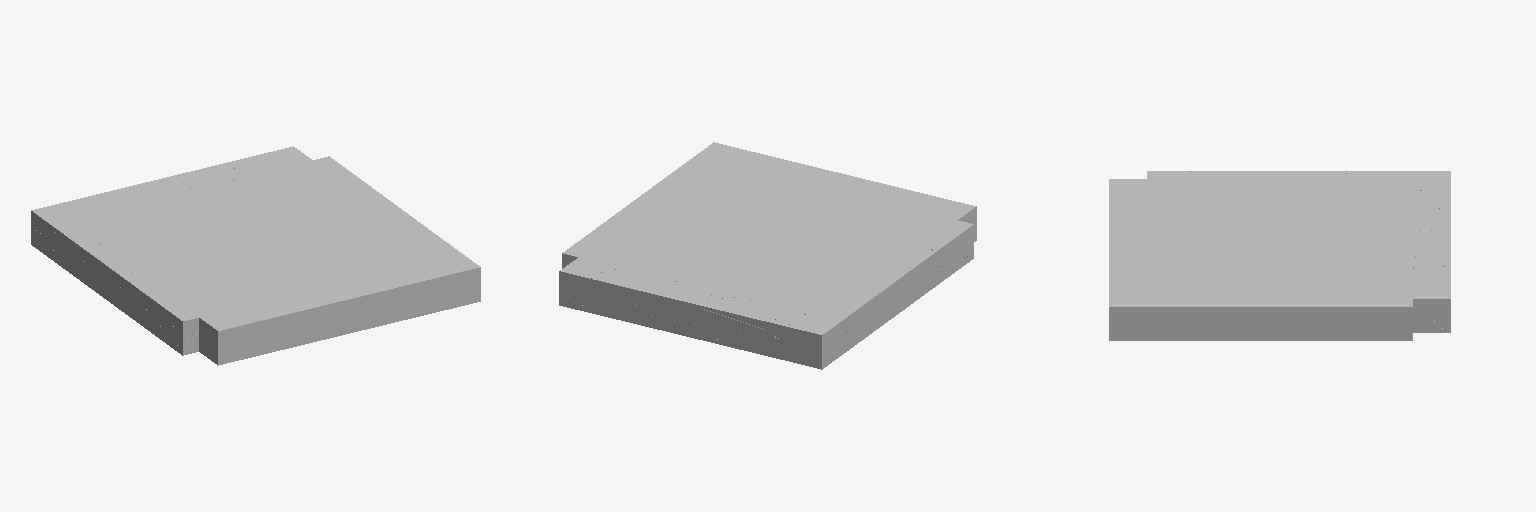
The model's file is VoronoiCube.obj.
3 renders of one model, left to right at view 1: azimuth 30°, elevation 25°; view 2: azimuth 150°, elevation 25°; view 3: azimuth 270°, elevation 25°, orthographic.
Parts seen in each view (by area): view 1: Cube_Cube.002, Cube_cell.002_cell.001_Cube_cell.002_cell.000, Cube_cell.005_cell.002_Cube_cell.005_cell.001, Cube_cell.002_cell.007_cell.002_Cube_cell.002_cell.007_cell.001, Cube_cell.004_cell.001_cell.005_Cube_cell.004_cell.001_cell.004, Cube_cell_Cube_cell.007, Cube_cell.006_cell.001_Cube_cell.006_cell.000, Cube_cell.005_cell_cell.007_cell.006_Cube_cell.005_cell_cell.007, Cube_cell.002_cell.002_cell_Cube_cell.002_cell.002_cell.008, Cube_cell.006_cell.004_cell.004_Cube_cell.006_cell.004_cell.003, Cube_cell.002_cell.007_cell.001_Cube_cell.002_cell.007_cell.000, Cube_cell.006_cell.004_cell.003_Cube_cell.006_cell.004_cell.002 (+16 smaller); view 2: Cube_Cube.002, Cube_cell.006_cell.003_cell.001_Cube_cell.006_cell.003_cell.000, Cube_cell.002_cell.001_Cube_cell.002_cell.000, Cube_cell.006_cell.004_cell.004_Cube_cell.006_cell.004_cell.003, Cube_cell.005_cell.002_Cube_cell.005_cell.001, Cube_cell.002_cell.007_cell.002_Cube_cell.002_cell.007_cell.001, Cube_cell.003_cell.002_Cube_cell.003_cell.001, Cube_cell.002_cell.007_cell.001_Cube_cell.002_cell.007_cell.000, Cube_cell.004_cell.002_cell.003_cell.006_Cube_cell.004_cell.002_, Cube_cell.006_cell.001_Cube_cell.006_cell.000, Cube_cell.002_cell_cell.006_Cube_cell.002_cell_cell.004, Cube_cell.006_cell.004_cell.007_Cube_cell.006_cell.004_cell.006 (+7 smaller); view 3: Cube_Cube.002, Cube_cell.006_cell.001_Cube_cell.006_cell.000, Cube_cell.006_cell.004_cell.004_Cube_cell.006_cell.004_cell.003, Cube_cell.004_cell.002_cell.003_cell.006_Cube_cell.004_cell.002_, Cube_cell.004_cell.003_cell.001_Cube_cell.004_cell.003_cell.000, Cube_cell.004_cell.001_cell.005_Cube_cell.004_cell.001_cell.004, Cube_cell.002_cell.002_cell.003_Cube_cell.002_cell.002_cell.002, Cube_cell.002_cell.001_Cube_cell.002_cell.000.
Part boxes in pixels (x1,y1,x2,y2): Cube_Cube.002: (67,156,480,365); Cube_cell.002_cell.001_Cube_cell.002_cell.000: (82,246,171,308); Cube_cell.005_cell.002_Cube_cell.005_cell.001: (119,261,199,328); Cube_cell.002_cell.007_cell.002_Cube_cell.002_cell.007_cell.001: (55,225,100,276); Cube_cell.004_cell.001_cell.005_Cube_cell.004_cell.001_cell.004: (287,188,357,220); Cube_cell_Cube_cell.007: (161,305,243,340); Cube_cell.006_cell.001_Cube_cell.006_cell.000: (268,146,318,178); Cube_cell.005_cell_cell.007_cell.006_Cube_cell.005_cell_cell.007: (210,280,268,305); Cube_cell.002_cell.002_cell_Cube_cell.002_cell.002_cell.008: (103,220,162,247); Cube_cell.006_cell.004_cell.004_Cube_cell.006_cell.004_cell.003: (177,163,236,188); Cube_cell.002_cell.007_cell.001_Cube_cell.002_cell.007_cell.000: (31,204,68,240); Cube_cell.006_cell.004_cell.003_Cube_cell.006_cell.004_cell.002: (195,177,264,197); Cube_Cube.002: (562,142,976,316); Cube_cell.006_cell.003_cell.001_Cube_cell.006_cell.003_cell.000: (580,266,635,322); Cube_cell.002_cell.001_Cube_cell.002_cell.000: (851,266,912,331); Cube_cell.006_cell.004_cell.004_Cube_cell.006_cell.004_cell.003: (629,280,696,317); Cube_cell.005_cell.002_Cube_cell.005_cell.001: (854,241,938,304); Cube_cell.002_cell.007_cell.002_Cube_cell.002_cell.007_cell.001: (831,291,874,348); Cube_cell.003_cell.002_Cube_cell.003_cell.001: (771,337,834,369); Cube_cell.002_cell.007_cell.001_Cube_cell.002_cell.007_cell.000: (796,314,846,345); Cube_cell.004_cell.002_cell.003_cell.006_Cube_cell.004_cell.002_: (745,180,821,203); Cube_cell.006_cell.001_Cube_cell.006_cell.000: (559,257,632,285); Cube_cell.002_cell_cell.006_Cube_cell.002_cell_cell.004: (703,309,745,334); Cube_cell.006_cell.004_cell.007_Cube_cell.006_cell.004_cell.006: (672,296,706,324); Cube_Cube.002: (1109,179,1412,340); Cube_cell.006_cell.001_Cube_cell.006_cell.000: (1396,273,1450,326); Cube_cell.006_cell.004_cell.004_Cube_cell.006_cell.004_cell.003: (1413,239,1450,265); Cube_cell.004_cell.002_cell.003_cell.006_Cube_cell.004_cell.002_: (1147,244,1212,269); Cube_cell.004_cell.003_cell.001_Cube_cell.004_cell.003_cell.000: (1158,277,1209,297); Cube_cell.004_cell.001_cell.005_Cube_cell.004_cell.001_cell.004: (1282,263,1344,292); Cube_cell.002_cell.002_cell.003_Cube_cell.002_cell.002_cell.002: (1417,207,1450,229); Cube_cell.002_cell.001_Cube_cell.002_cell.000: (1270,171,1341,178).
Bounding box in the file's own units: 17 × 2 × 18.